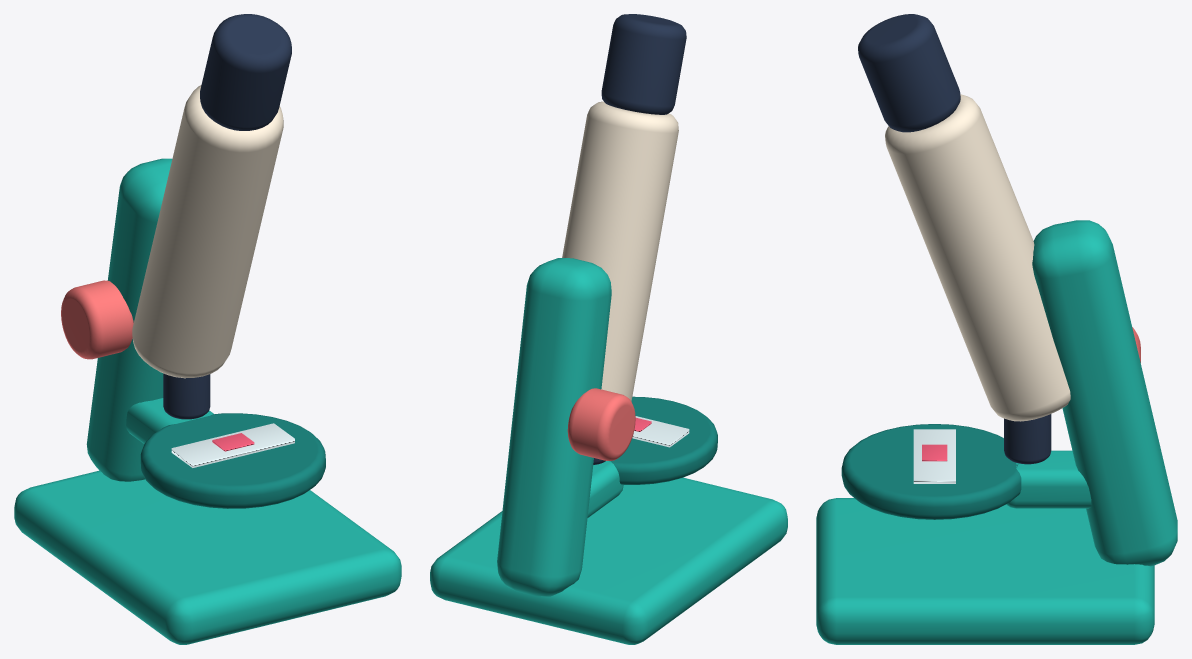
Rendered from BenchMicroscope.fbx.
3 views of the same model, side by side, from view 1: azimuth 30°, elevation 25°; view 2: azimuth 150°, elevation 25°; view 3: azimuth 270°, elevation 25° (orthographic). The views are drawn at different scales.
Parts seen in each view (by area): view 1: BenchMicroscope mesh; view 2: BenchMicroscope mesh; view 3: BenchMicroscope mesh.
Boxes of the visible parts, x1,y1,x2,y2 form: BenchMicroscope mesh: (14, 14, 401, 644); BenchMicroscope mesh: (430, 14, 787, 644); BenchMicroscope mesh: (816, 14, 1177, 644).
Bounding box in the file's own units: 0.16 × 0.374 × 0.2137.
